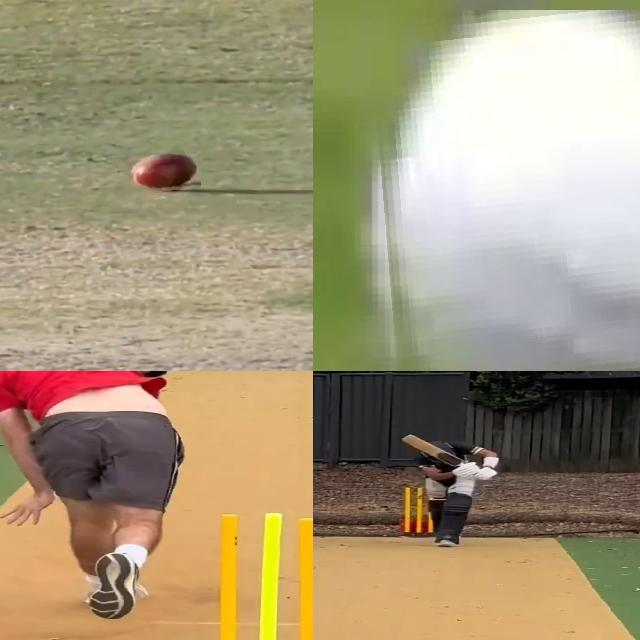Cricket ball: (368, 9, 640, 371), (125, 154, 201, 195)
Stumps: (197, 510, 313, 640), (404, 486, 433, 539)
